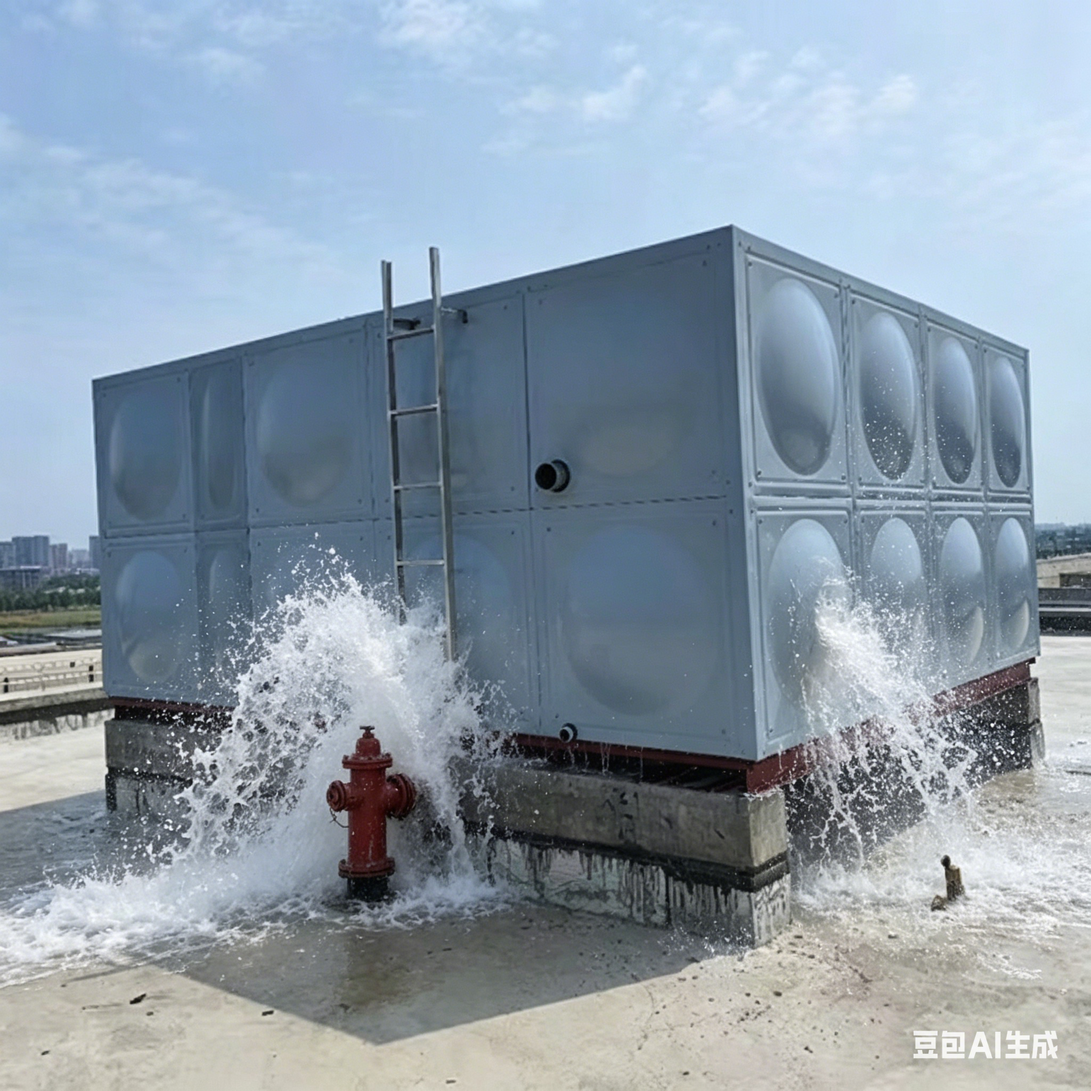Leakage: (782, 590, 1077, 927), (239, 608, 533, 923), (8, 854, 233, 947)
